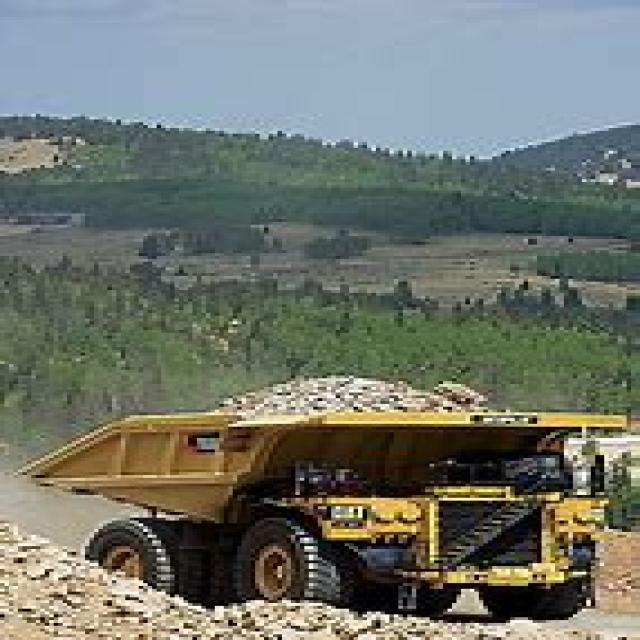dump_truck: (36, 358, 635, 626)
